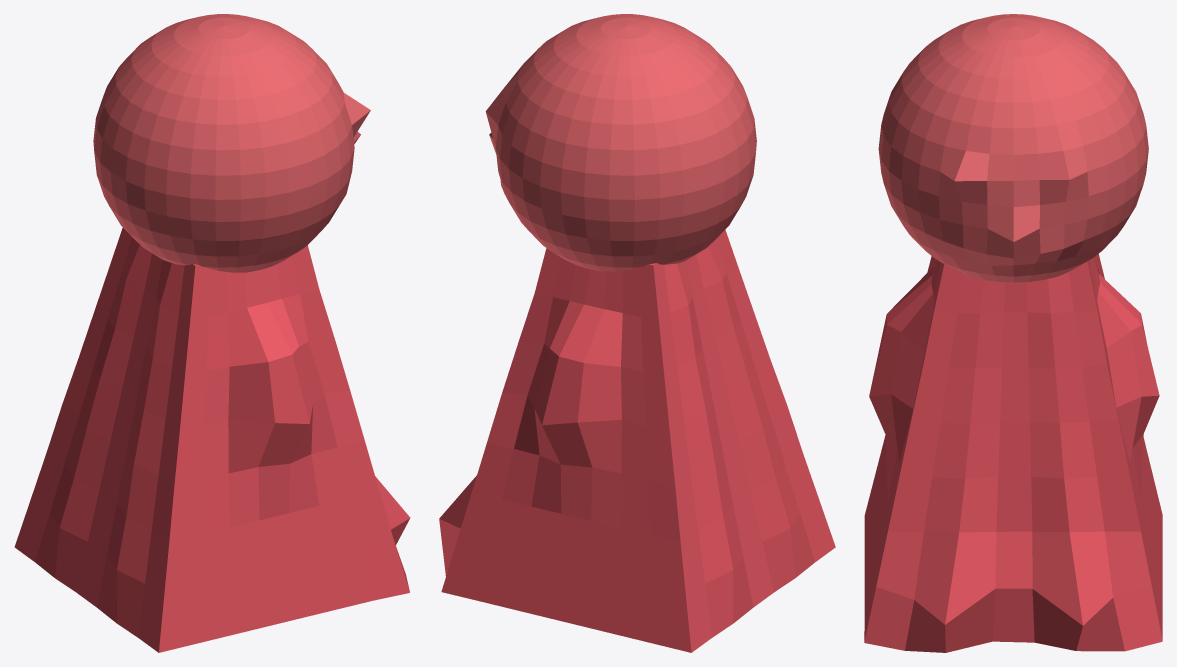
File: player-red.glb
The picture shows the model from 3 angles, left to right: view 1: azimuth 30°, elevation 25°; view 2: azimuth 150°, elevation 25°; view 3: azimuth 270°, elevation 25°; orthographic projection. The views are drawn at different scales.
Parts seen in each view (by area): view 1: Cube, Sphere; view 2: Cube, Sphere; view 3: Cube, Sphere.
Boxes of the visible parts, x1,y1,x2,y2 form: Cube: (14,227,410,652); Sphere: (93,14,370,272); Cube: (439,229,835,652); Sphere: (485,14,756,271); Cube: (864,254,1162,652); Sphere: (878,14,1148,283).
Size of the model in its own units: 2.57 by 4.58 by 2.21.
